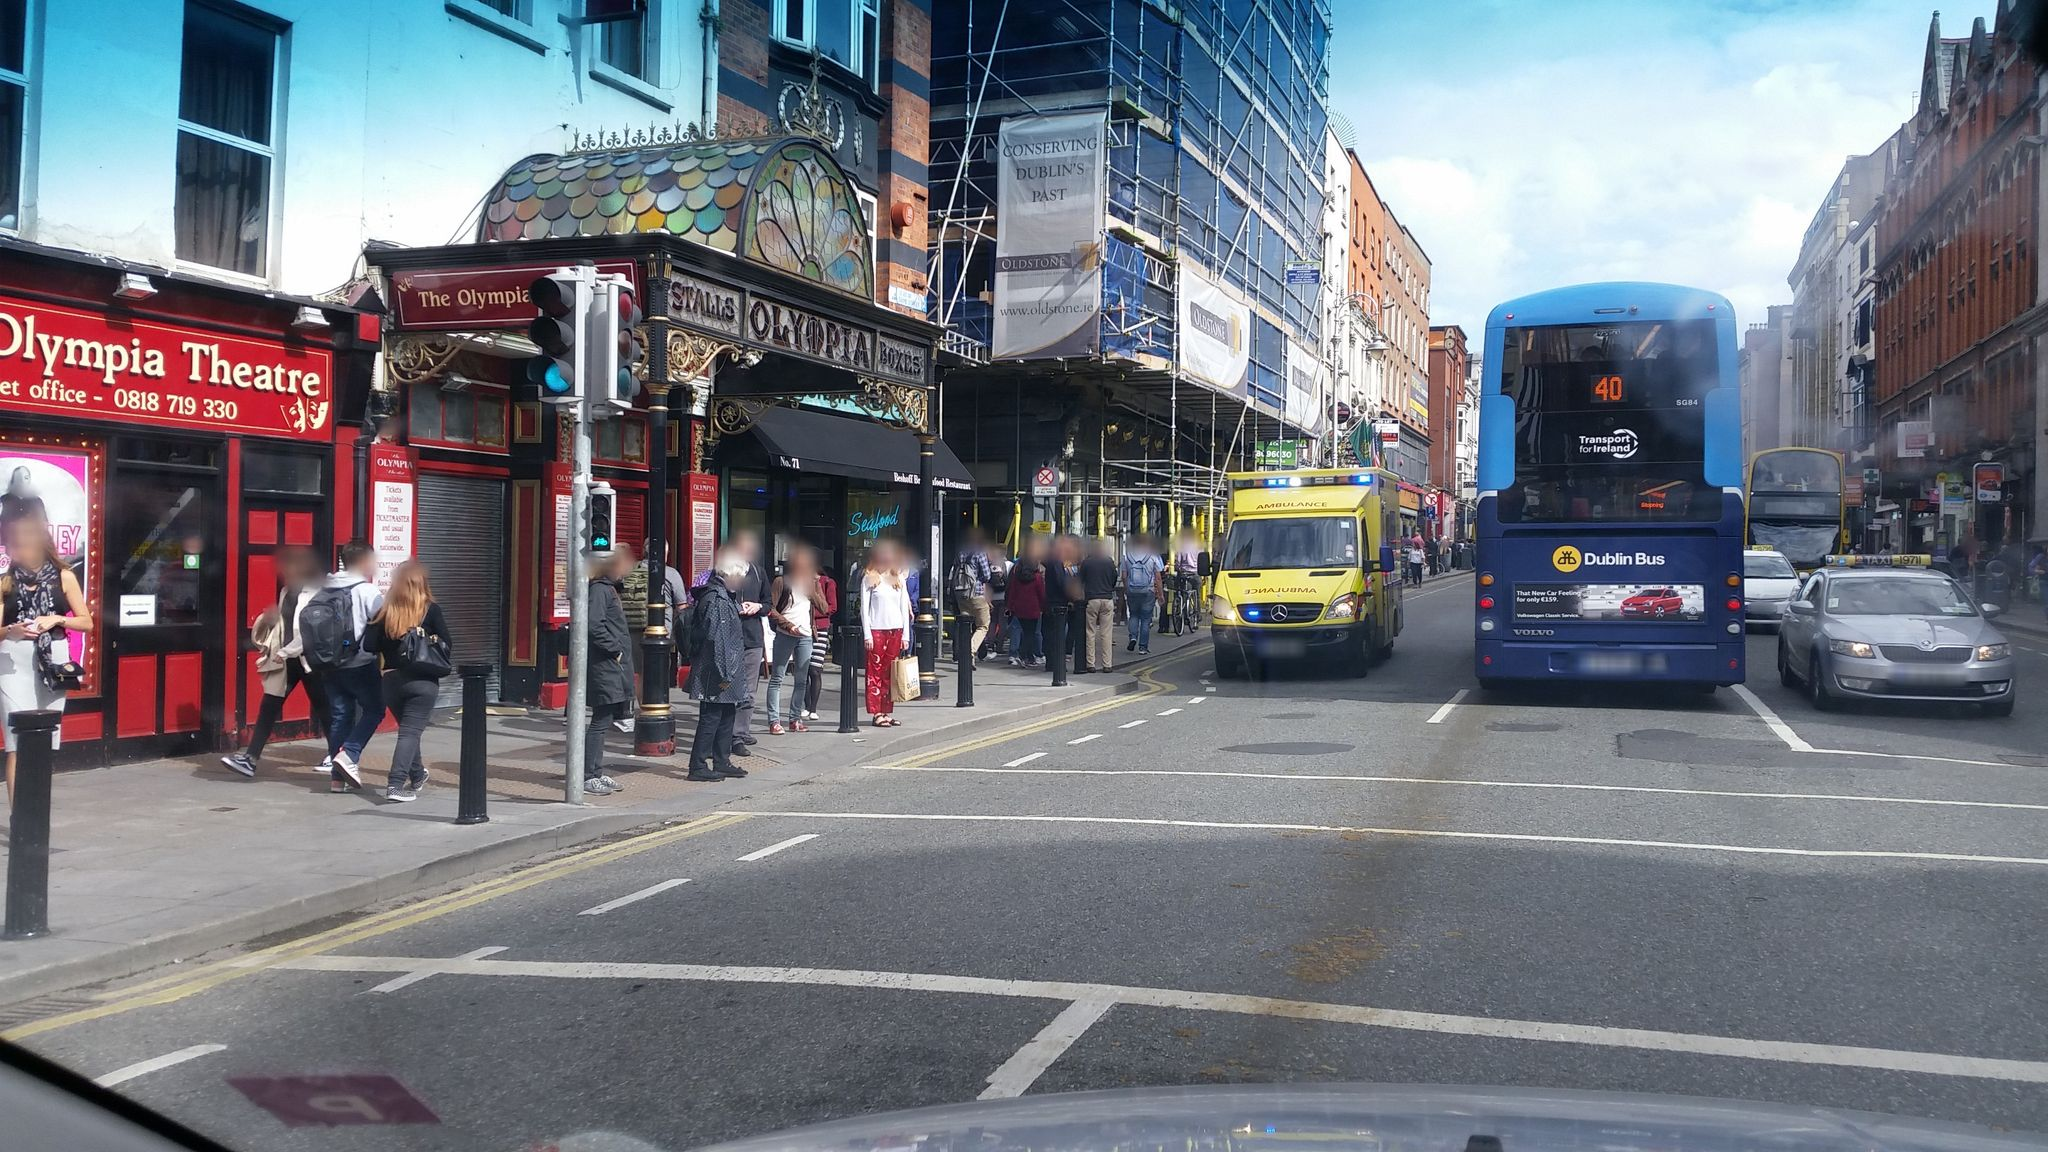vinyl banner: (993, 96, 1127, 383), (1162, 248, 1267, 405), (1279, 329, 1332, 450)
